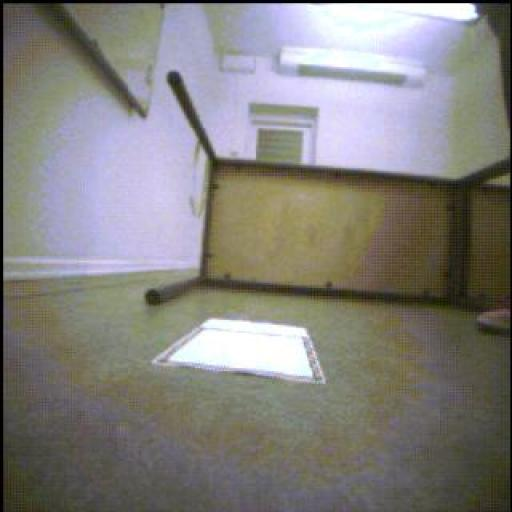Pad: (155, 319, 326, 385)
